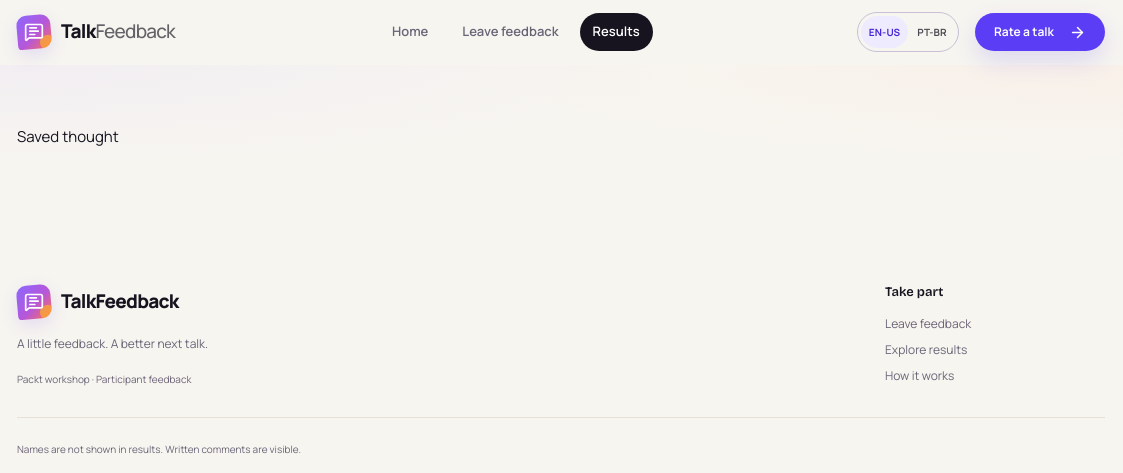
exposes both languages and localizes navigation without remounting children
Click the button "PT-BR": {"x": 932, "y": 32} x1=909 y1=16 x2=955 y2=48
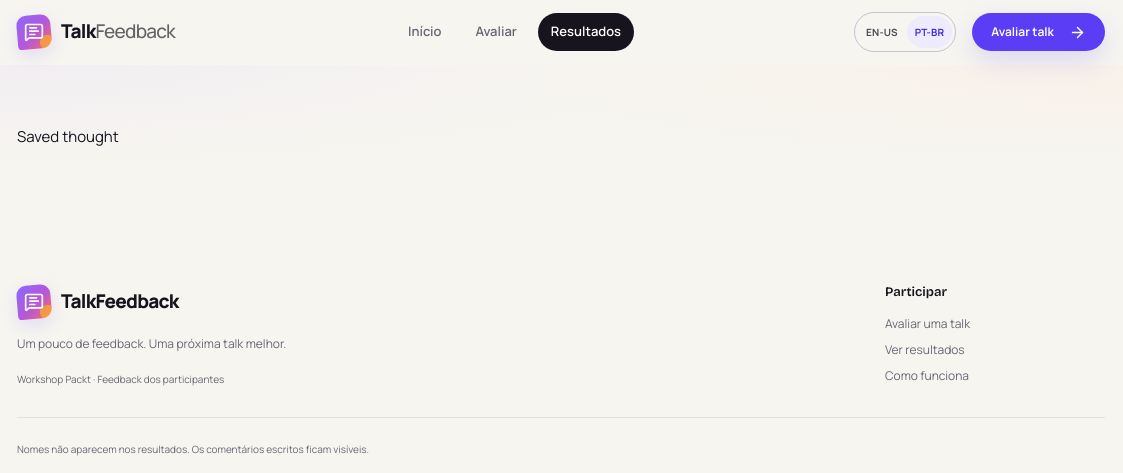
Expected: the field named "Draft" holds "Saved thought", x1=17 y1=125 x2=201 y2=150
Result: the navigation bar named "Navegação principal" is shown at x1=395 y1=13 x2=634 y2=51
